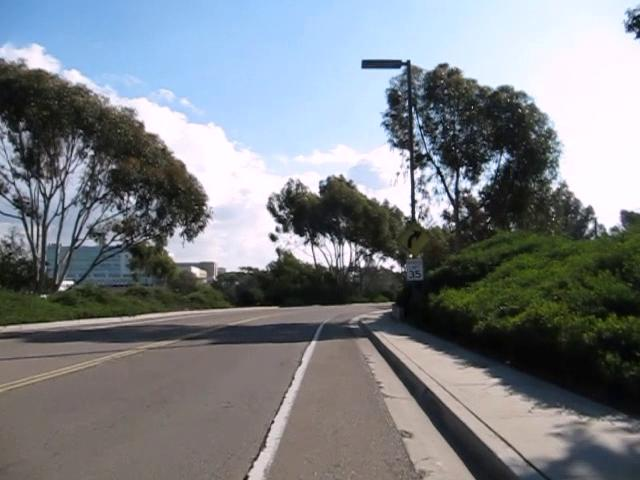speedLimit35: (404, 256, 424, 281)
